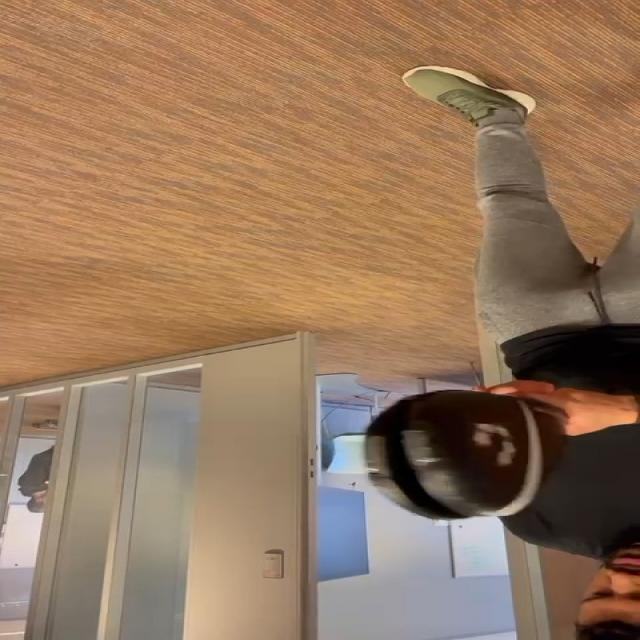paddle: (362, 394, 541, 517)
